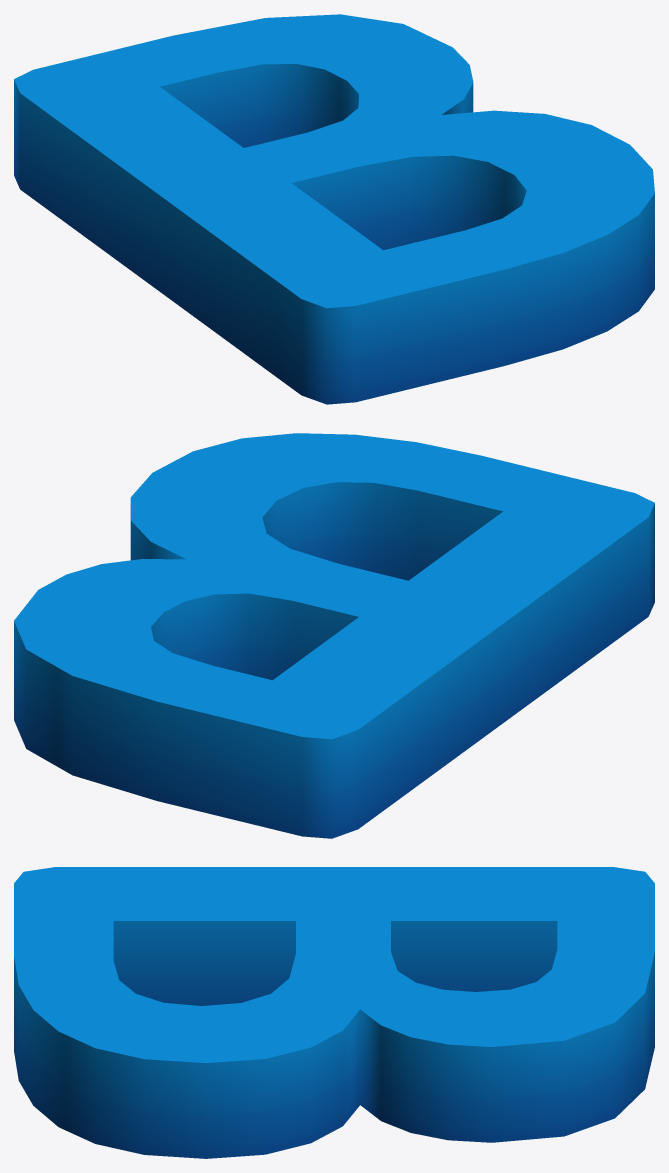
The model's file is letter_B.fbx.
The picture shows the model from 3 angles, top to bottom: view 1: azimuth 30°, elevation 25°; view 2: azimuth 150°, elevation 25°; view 3: azimuth 270°, elevation 25°; orthographic projection. The views are drawn at different scales.
Parts seen in each view (by area): view 1: letter_B; view 2: letter_B; view 3: letter_B.
Boxes of the visible parts, <box> form: letter_B: <box>14,14,654,404</box>; letter_B: <box>14,433,654,838</box>; letter_B: <box>14,867,654,1158</box>.
Bounding box in the file's own units: 16.48 × 3.75 × 22.76.
